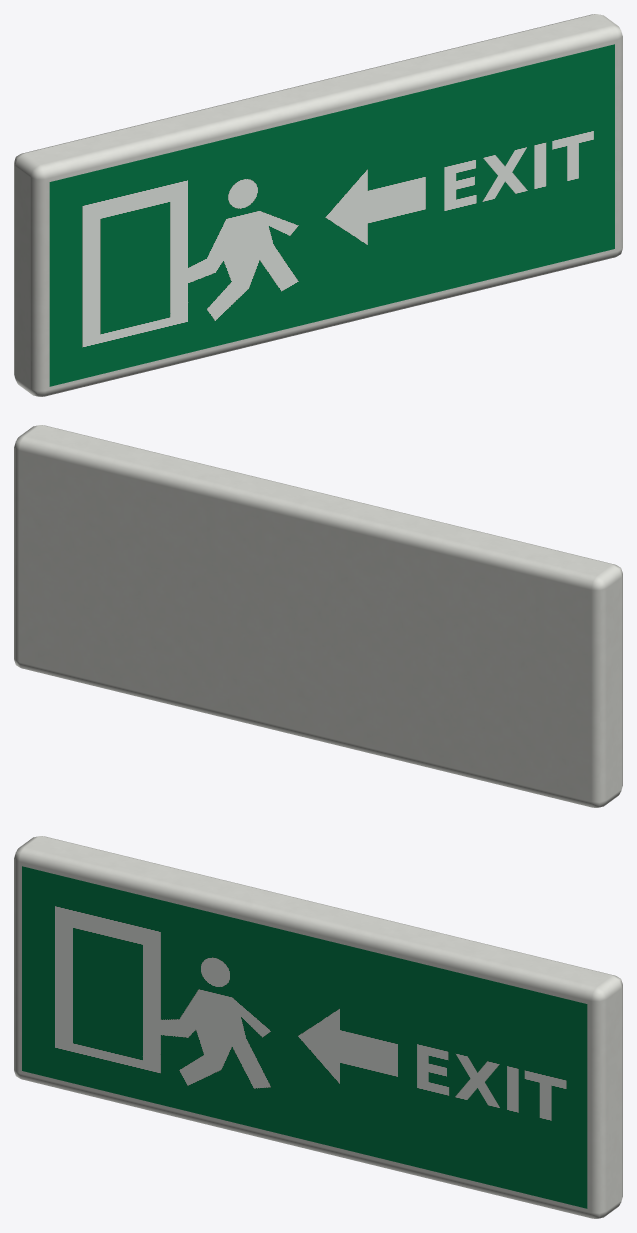
Rendered from ExitSign.obj.
The picture shows the model from 3 angles, top to bottom: view 1: azimuth 30°, elevation 25°; view 2: azimuth 150°, elevation 25°; view 3: azimuth 330°, elevation 25°; orthographic projection.
Visible parts, largest first — view 1: Face, Housing; view 2: Housing; view 3: Face, Housing.
Part boxes in pixels (x1,y1,x2,y2): Face: (49,44,614,386); Housing: (14,14,622,396); Housing: (14,425,622,807); Face: (22,866,587,1208); Housing: (14,836,622,1218).
Size of the model in its own units: 0.36 by 0.135 by 0.0285.
Materials: 2 (2 with a texture image).
